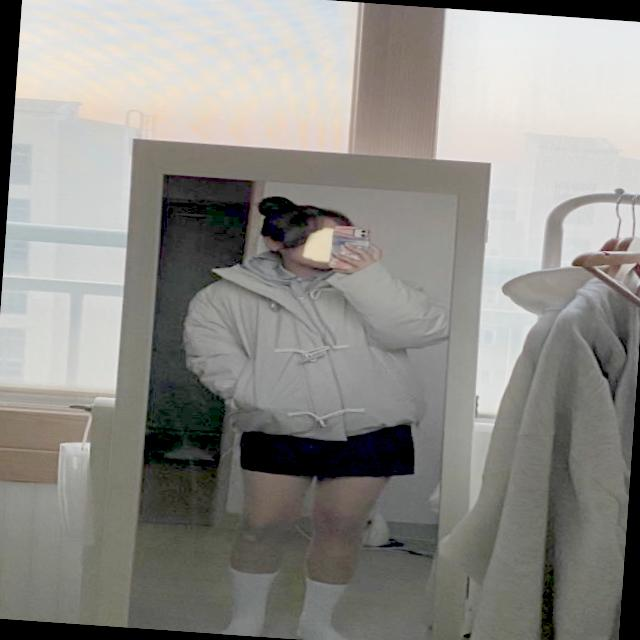padding: (176, 252, 454, 446)
skirt: (237, 409, 422, 485)
